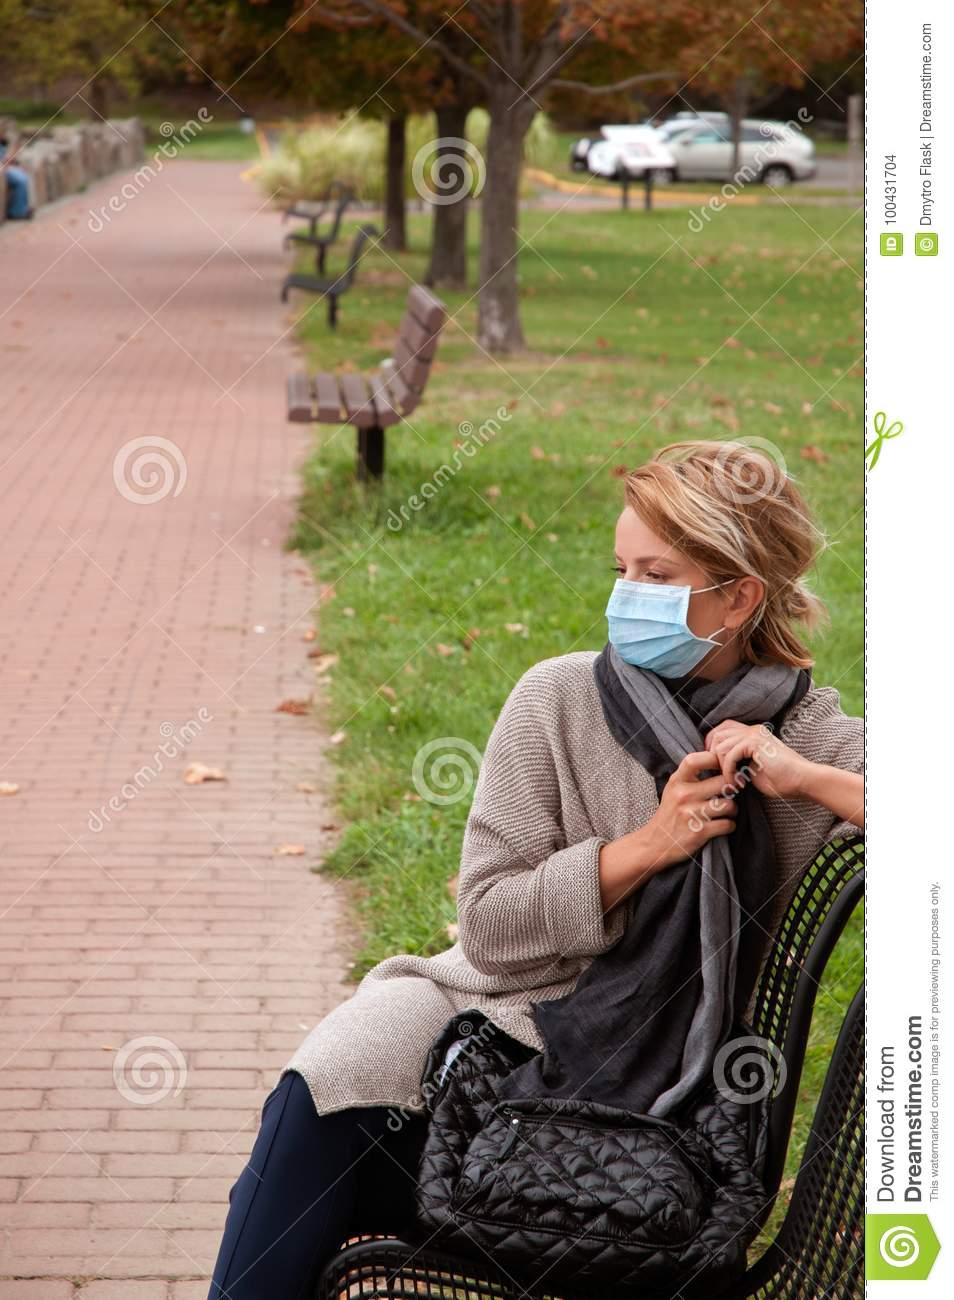mask: (612, 577, 718, 681)
